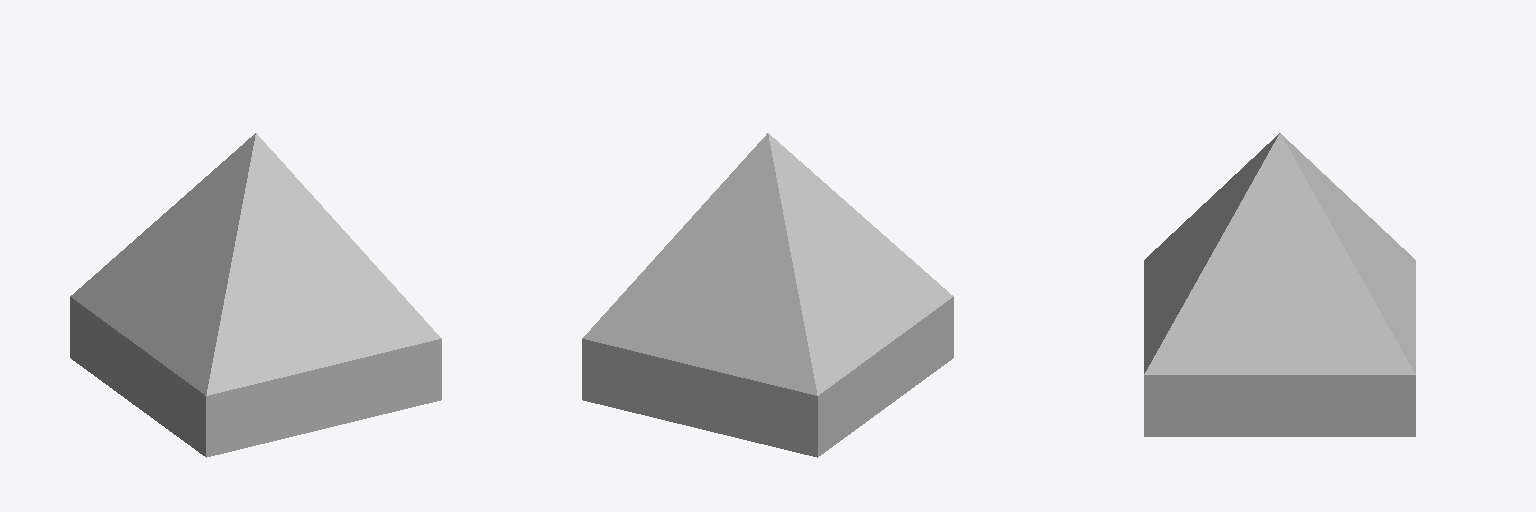
Rendered from RAMP_1.obj.
The picture shows the model from 3 angles: view 1: azimuth 30°, elevation 25°; view 2: azimuth 150°, elevation 25°; view 3: azimuth 270°, elevation 25°; orthographic projection.
Parts seen in each view (by area): view 1: StaticMaterial; view 2: StaticMaterial; view 3: StaticMaterial.
Boxes of the visible parts, x1,y1,x2,y2 form: StaticMaterial: [70, 133, 441, 457]; StaticMaterial: [582, 133, 953, 457]; StaticMaterial: [1144, 133, 1415, 436].
Bounding box in the file's own units: 2 × 2 × 2.